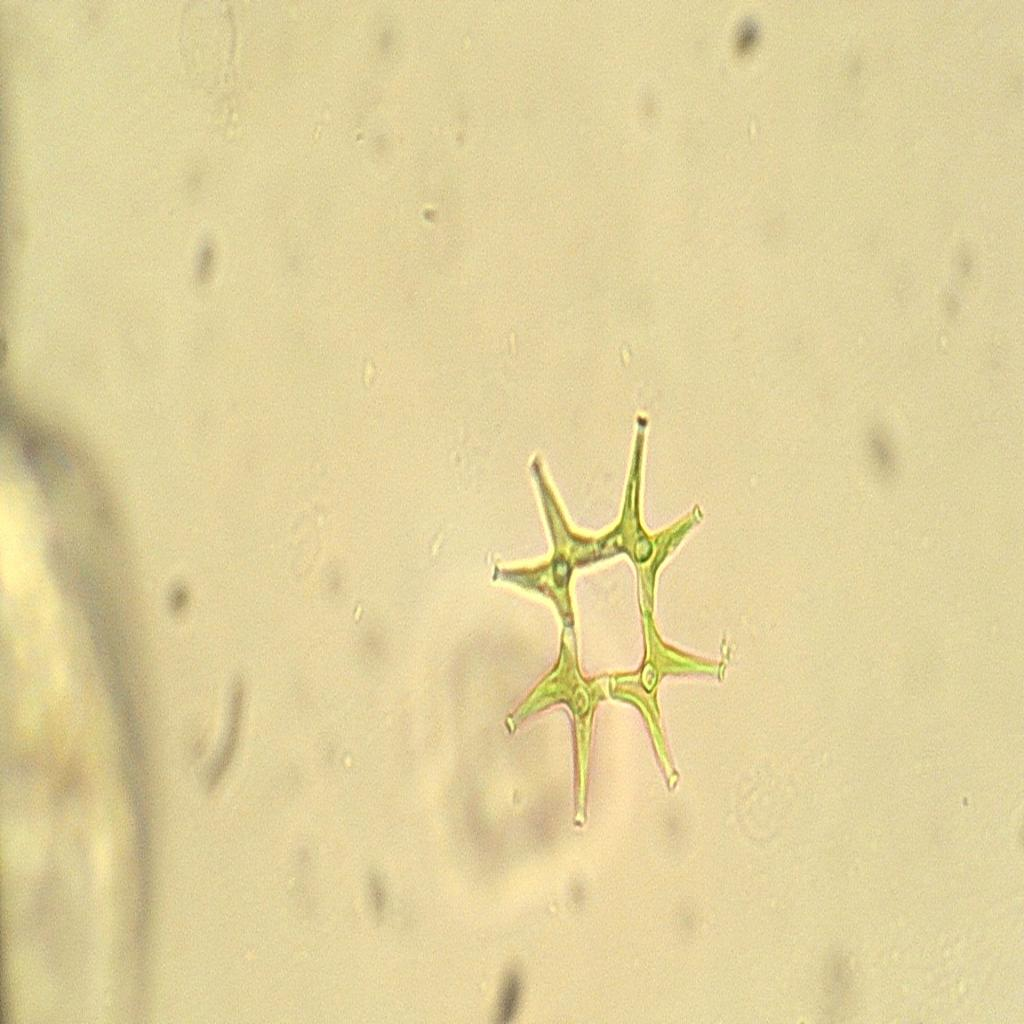Pediastrum_75O: (479, 384, 735, 840)
